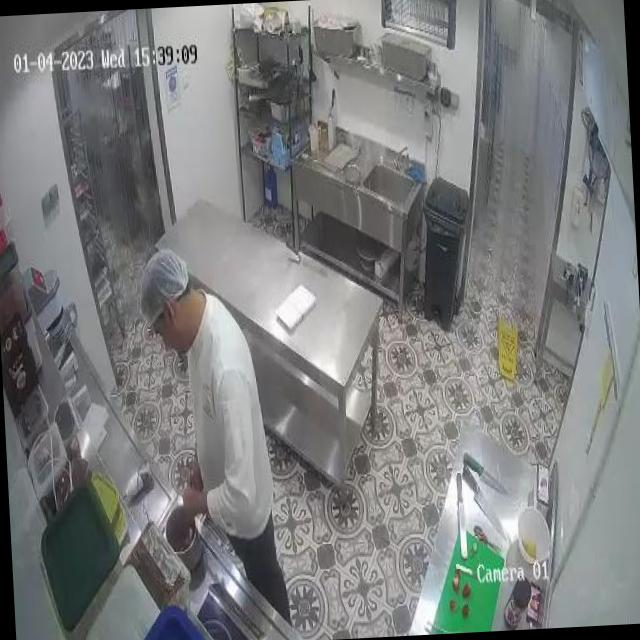hairnet: (139, 251, 186, 309)
